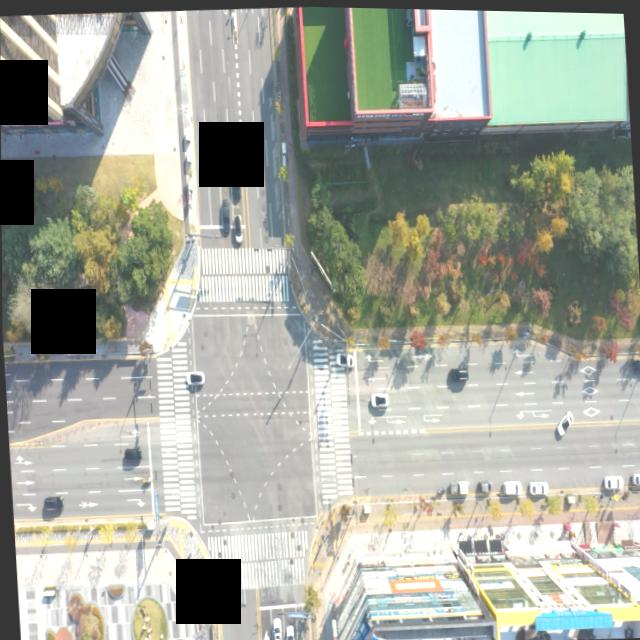car: (554, 408, 573, 436), (230, 166, 240, 203), (335, 349, 355, 366), (221, 199, 230, 235), (602, 472, 622, 488), (527, 479, 547, 495), (182, 369, 203, 384), (500, 479, 520, 494), (233, 211, 243, 241), (368, 389, 386, 405), (448, 364, 467, 379), (42, 496, 62, 510), (121, 448, 140, 461), (272, 617, 282, 640), (475, 479, 490, 492), (286, 623, 295, 640), (631, 469, 640, 484), (261, 632, 270, 640)
small_truck: (451, 478, 471, 494), (216, 134, 226, 164)
